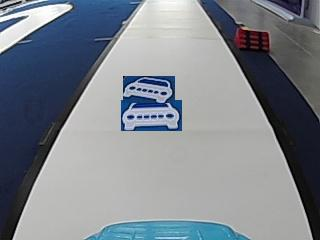bomb: (232, 27, 270, 50)
